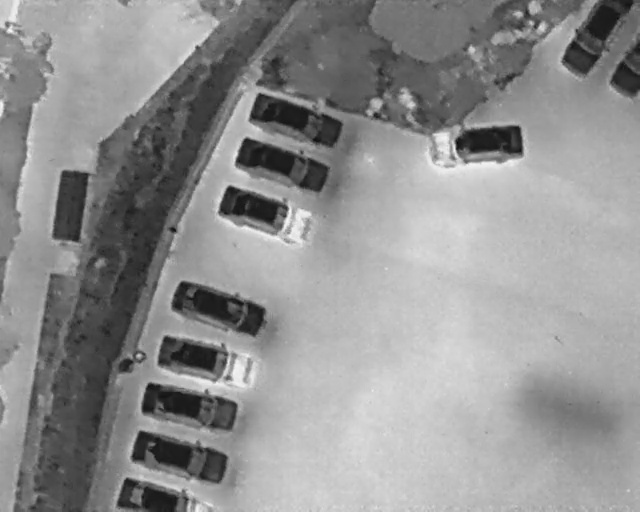Car: (211, 178, 323, 251), (123, 423, 235, 492), (165, 272, 272, 342), (242, 86, 348, 155), (230, 132, 336, 201), (151, 330, 265, 394), (134, 375, 244, 437), (556, 0, 632, 81), (423, 118, 528, 173), (116, 476, 212, 510), (608, 42, 639, 101)
